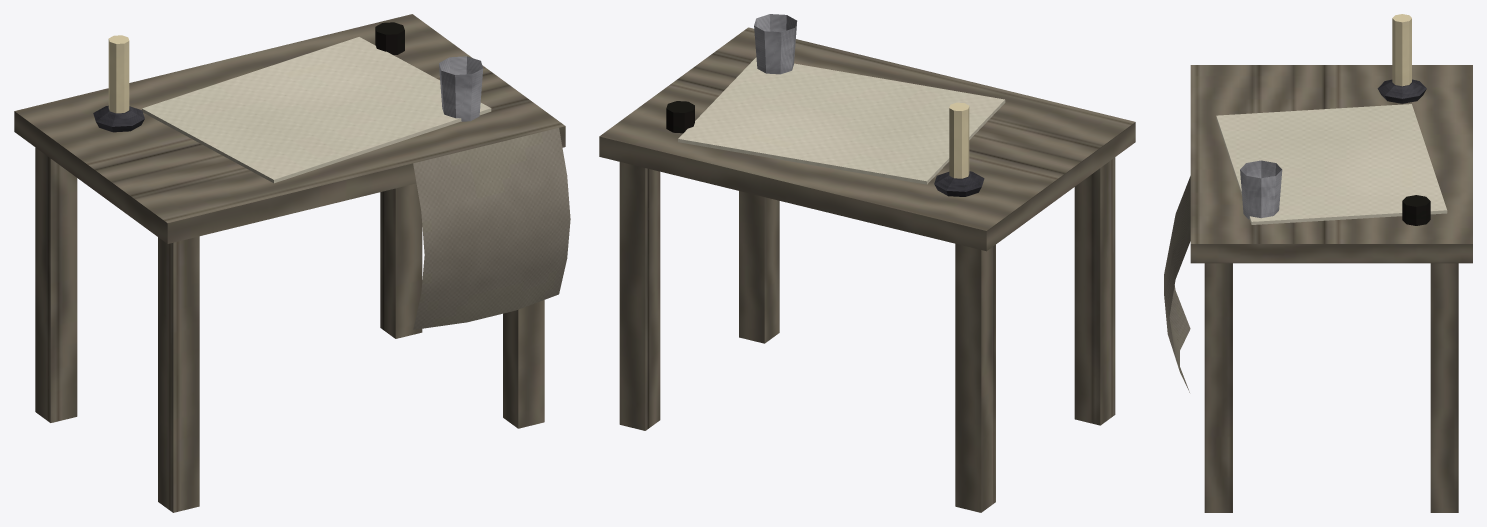
Rendered from prop_kaarttafel_red.glb.
The picture shows the model from 3 angles, left to right: view 1: azimuth 30°, elevation 25°; view 2: azimuth 150°, elevation 25°; view 3: azimuth 270°, elevation 25°; orthographic projection. The views are drawn at different scales.
Parts seen in each view (by area): view 1: prop_kaarttafel_red; view 2: prop_kaarttafel_red; view 3: prop_kaarttafel_red.
Boxes of the visible parts, bbox=[...] form: prop_kaarttafel_red: bbox=[14, 14, 570, 512]; prop_kaarttafel_red: bbox=[599, 14, 1135, 512]; prop_kaarttafel_red: bbox=[1164, 14, 1472, 512].
Size of the model in its own units: 0.6 by 0.55 by 0.4375.
1 material, 1 textured.
